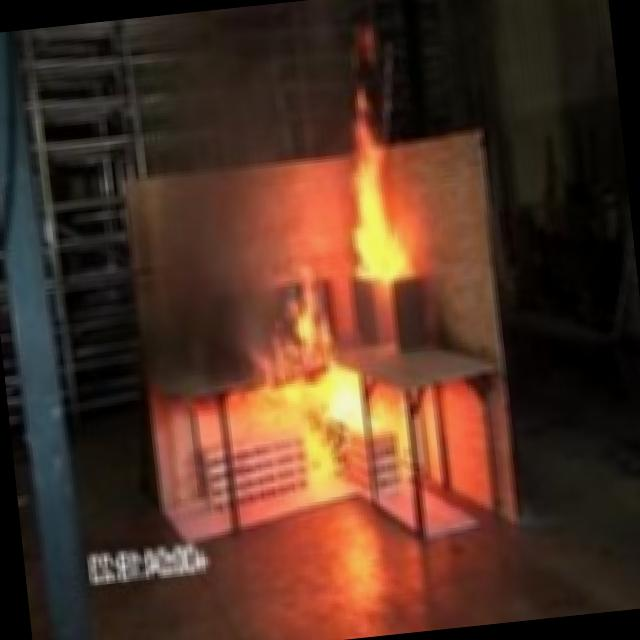fire: (301, 76, 458, 330), (232, 282, 380, 502)
